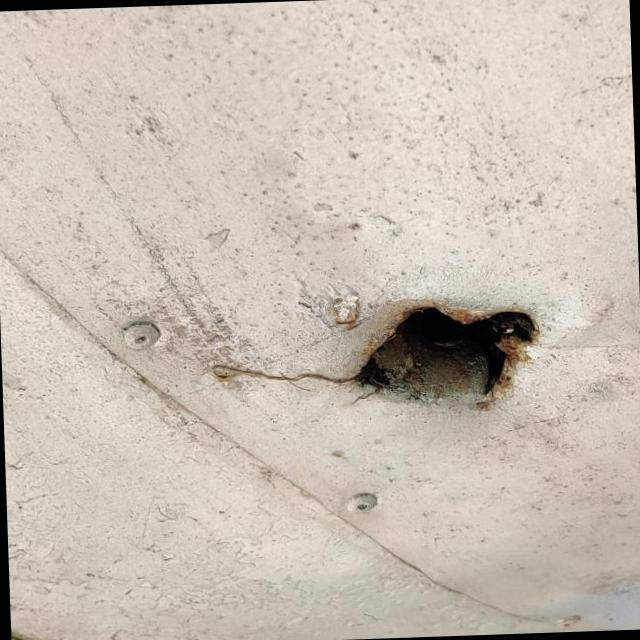Crack: (354, 307, 539, 405)
